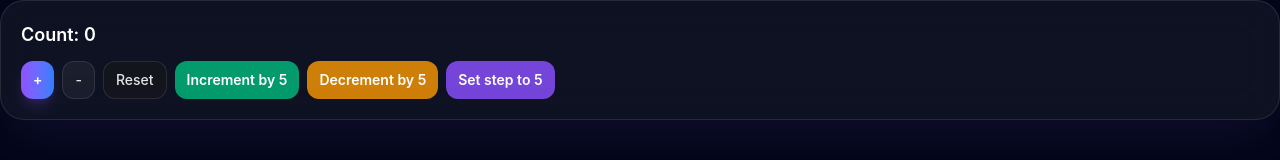
Test: Counter › increments count when clicking +
The width and height of the screenshot is (1280, 160).
What coordinates should you click on to do the following:
click the button "+"
I would click on:
 (38, 80)
Its box is [21,61,54,99].
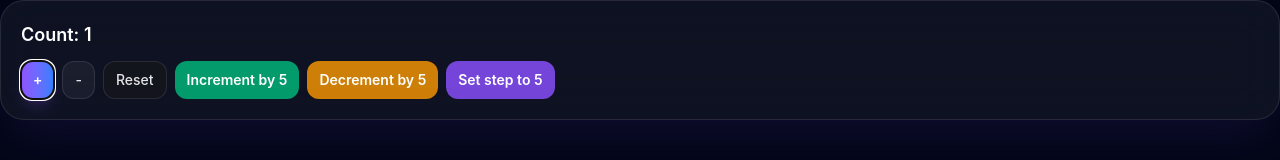
Result: the text "Count: 1" is shown at [21,21,92,49]
